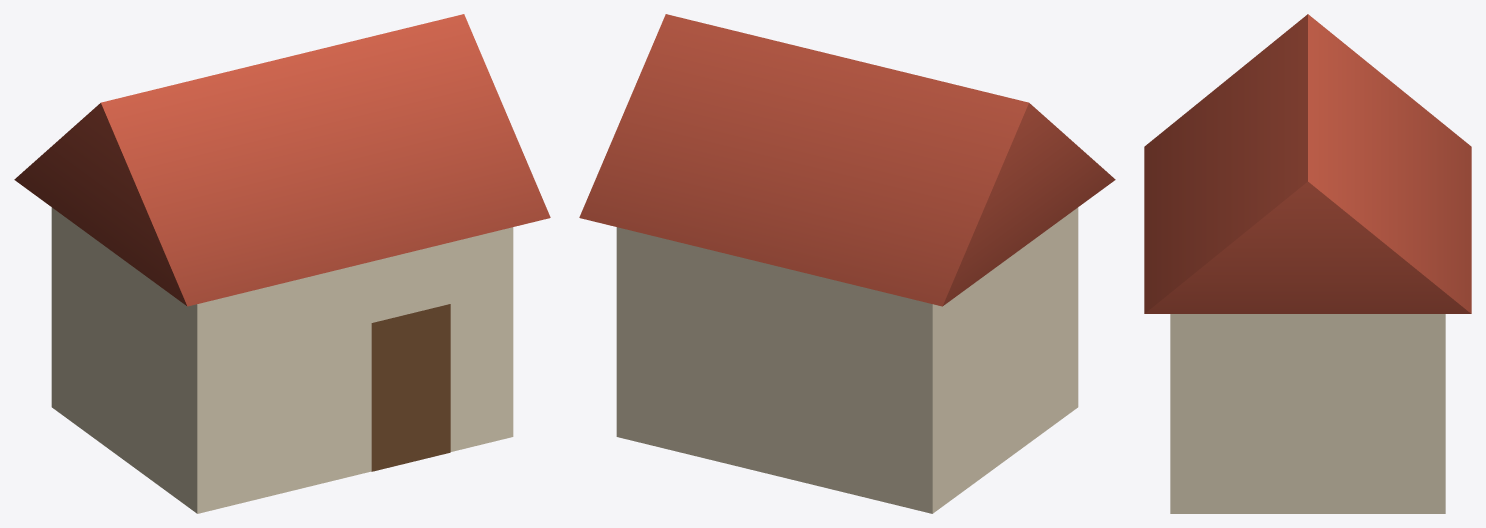
File: house.gltf
3 renders of one model, left to right at view 1: azimuth 30°, elevation 25°; view 2: azimuth 150°, elevation 25°; view 3: azimuth 270°, elevation 25°, orthographic. The views are drawn at different scales.
Parts seen in each view (by area): view 1: Roof, Walls, Door; view 2: Walls, Roof; view 3: Roof, Walls.
Part boxes in pixels (x1,y1,x2,y2): Roof: [14, 14, 550, 306]; Walls: [51, 207, 513, 513]; Door: [371, 304, 450, 471]; Walls: [616, 207, 1078, 513]; Roof: [579, 14, 1115, 306]; Roof: [1144, 14, 1471, 313]; Walls: [1170, 314, 1445, 513].
Bounding box in the file's own units: 2.3 × 2.2 × 1.9.
